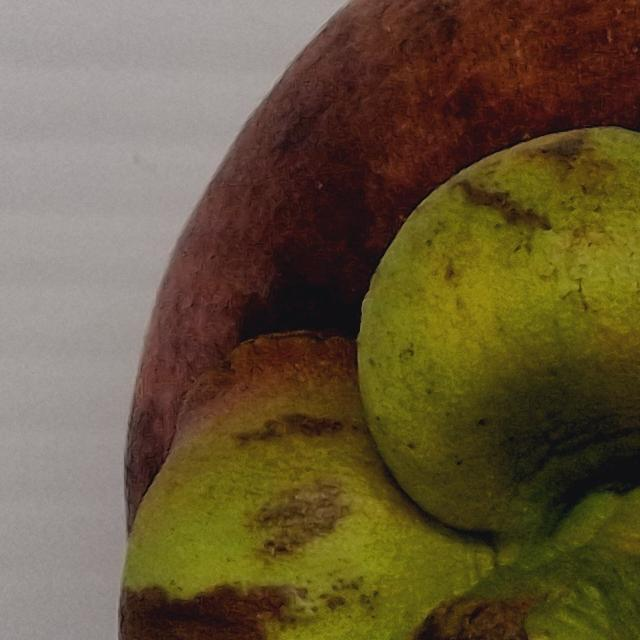mangosteen: (30, 0, 640, 640)
